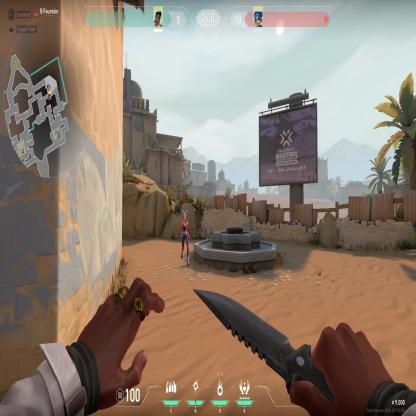enemy: (178, 208, 192, 268)
